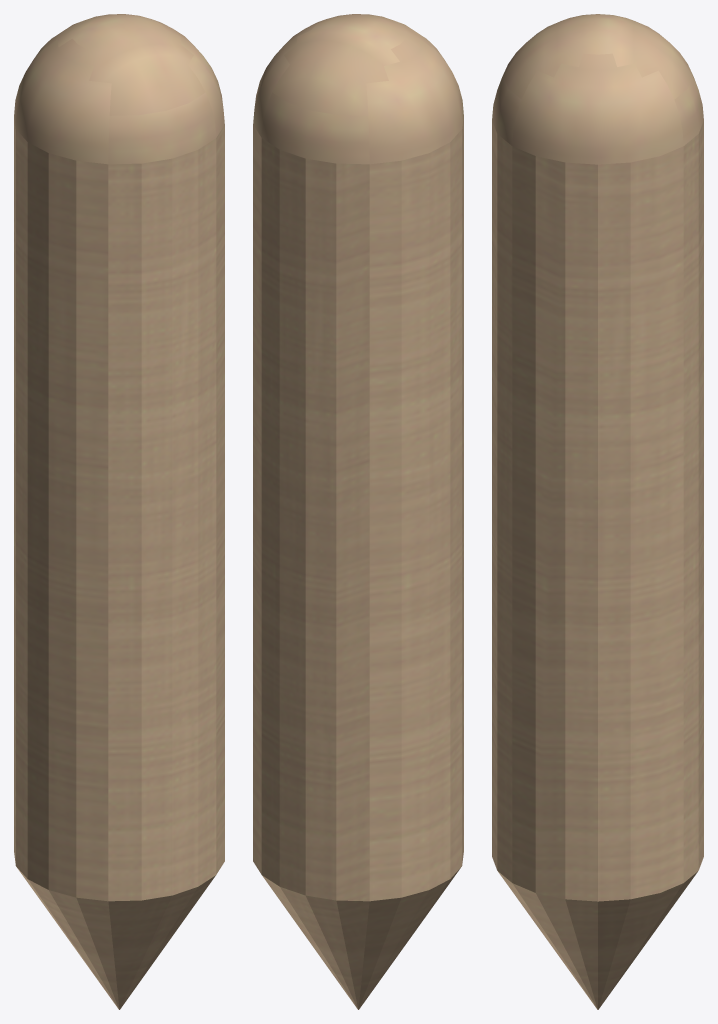
File: Pencil.fbx
The picture shows the model from 3 angles, left to right: view 1: azimuth 30°, elevation 25°; view 2: azimuth 150°, elevation 25°; view 3: azimuth 270°, elevation 25°; orthographic projection.
Parts seen in each view (by area): view 1: Pencil; view 2: Pencil; view 3: Pencil.
Boxes of the visible parts, x1=… form: Pencil: x1=14, y1=14, x2=224, y2=1009; Pencil: x1=253, y1=14, x2=463, y2=1009; Pencil: x1=492, y1=14, x2=703, y2=1009.
Bounding box in the file's own units: 10.99 × 56.42 × 10.99.
